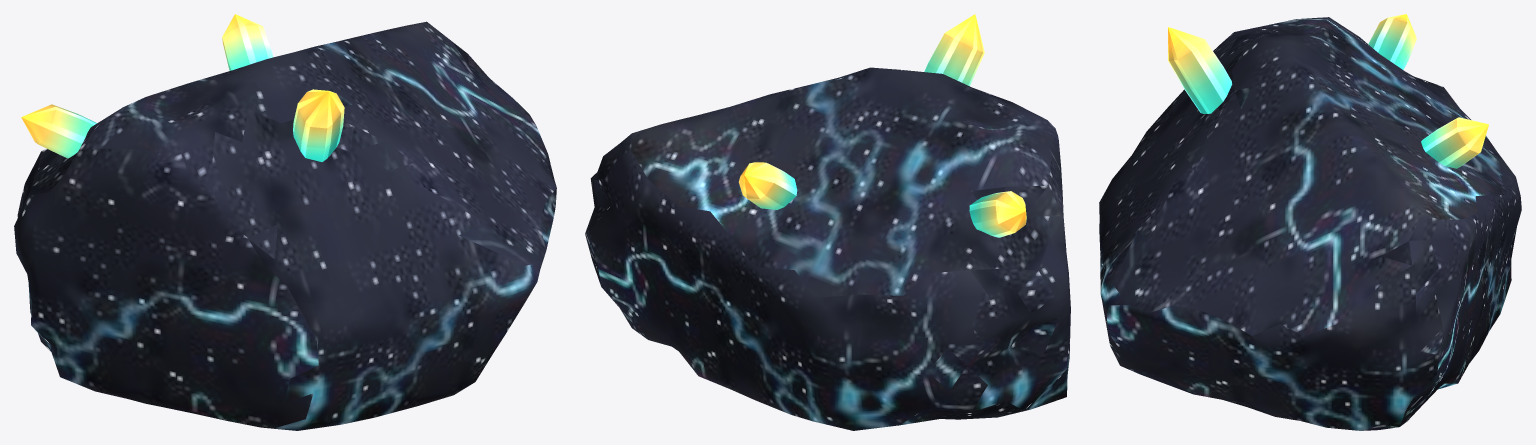
The model's file is star_iron_nugget.glb.
The picture shows the model from 3 angles, left to right: view 1: azimuth 30°, elevation 25°; view 2: azimuth 150°, elevation 25°; view 3: azimuth 270°, elevation 25°; orthographic projection. The views are drawn at different scales.
Visible parts, largest first — view 1: StarIronMesh; view 2: StarIronMesh; view 3: StarIronMesh.
Part boxes in pixels (x1,y1,x2,y2): StarIronMesh: (14,14,556,430); StarIronMesh: (585,14,1070,430); StarIronMesh: (1099,14,1521,430).
Size of the model in its own units: 0.216 by 0.1288 by 0.1653.
Materials: 2 (1 with a texture image).
